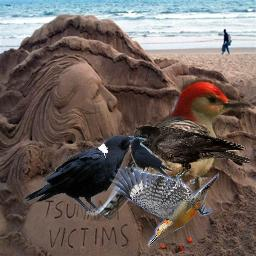Crow: (23, 135, 142, 221), (127, 125, 250, 184), (130, 136, 172, 179)
Woodpecker: (90, 77, 255, 221), (109, 166, 219, 248)
